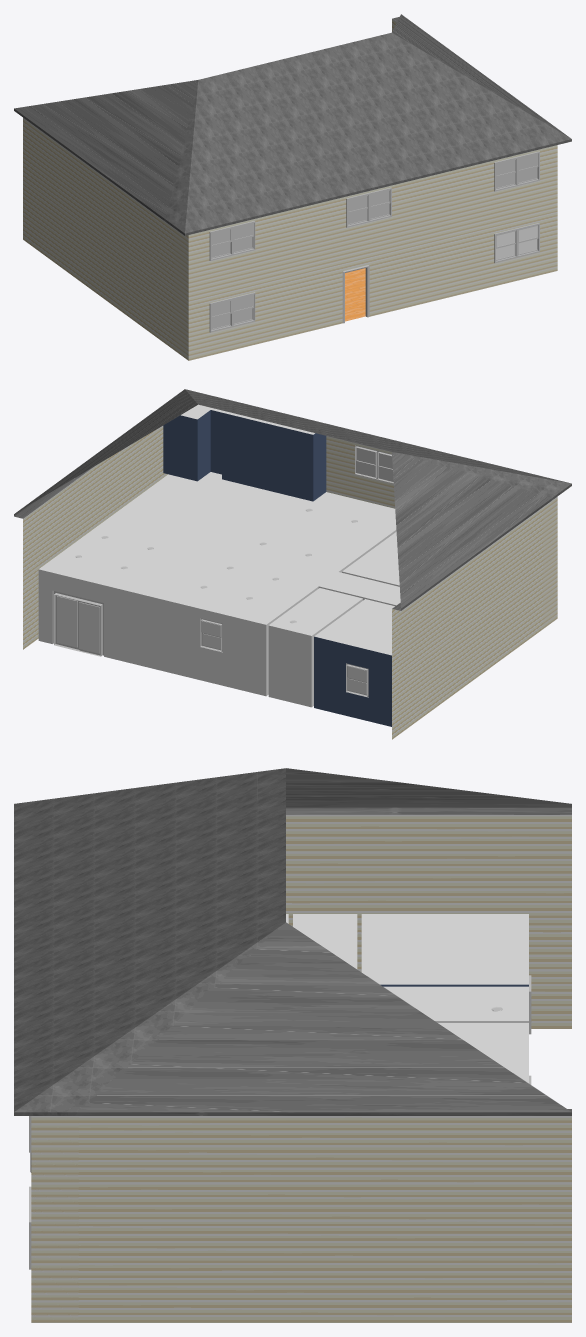
File: House.fbx
The picture shows the model from 3 angles, top to bottom: view 1: azimuth 30°, elevation 25°; view 2: azimuth 150°, elevation 25°; view 3: azimuth 270°, elevation 25°; orthographic projection. The views are drawn at different scales.
Parts seen in each view (by area): view 1: Exterior, House; view 2: Exterior, Ceiling, House; view 3: Exterior, Ceiling, House.
Part boxes in pixels (box(x1,y1,x2,y2)): Exterior: box(14, 14, 571, 360); House: box(342, 264, 369, 323); Exterior: box(14, 389, 571, 739); Ceiling: box(39, 404, 400, 655); House: box(38, 530, 399, 726); Exterior: box(14, 768, 571, 1322); Ceiling: box(286, 914, 528, 1083); House: box(30, 975, 531, 1172).
Size of the model in its own units: 1700 by 850 by 1300.
